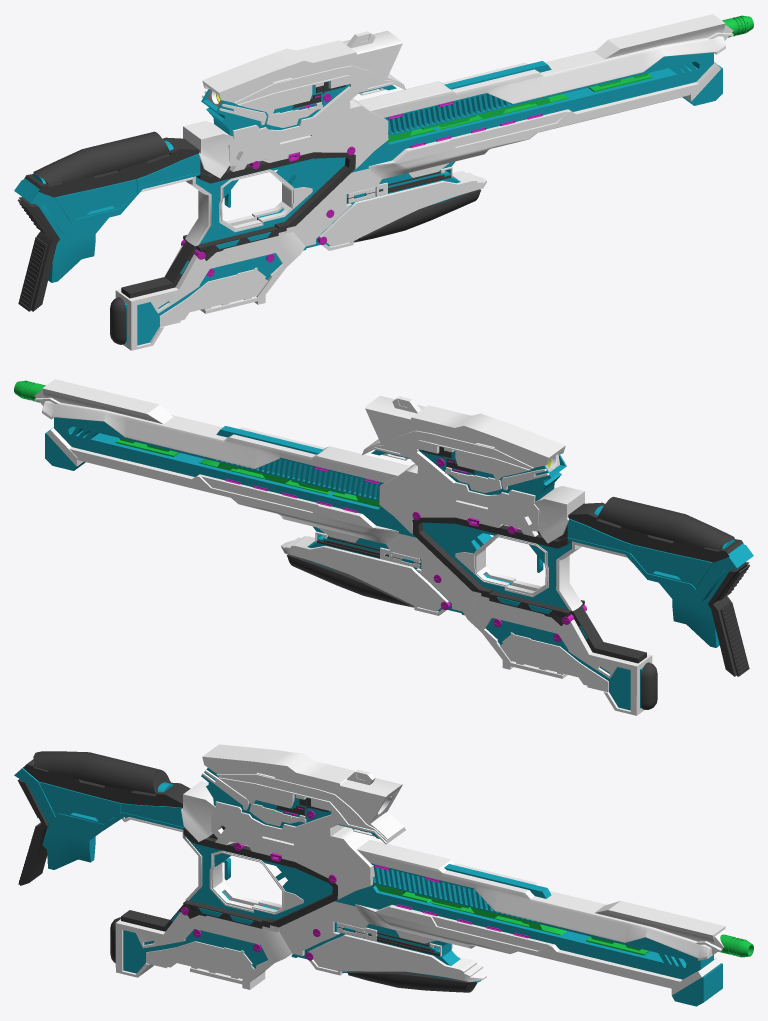
The model's file is Sci-Fi_Gun_sketchfab.fbx.
3 renders of one model, top to bottom at view 1: azimuth 30°, elevation 25°; view 2: azimuth 150°, elevation 25°; view 3: azimuth 330°, elevation 25°, orthographic.
Visible parts, largest first — view 1: Steel, Blue, Grey, Metal, Bolt; view 2: Steel, Blue, Grey, Metal, Bolt; view 3: Steel, Blue, Grey, Metal, Bolt.
Boxes of the visible parts, x1,y1,x2,y2 form: Steel: (115, 14, 733, 350); Blue: (14, 52, 722, 345); Grey: (17, 81, 481, 344); Metal: (387, 15, 753, 142); Bolt: (181, 93, 542, 276); Steel: (34, 379, 652, 715); Blue: (45, 417, 753, 710); Grey: (286, 446, 749, 709); Metal: (14, 380, 380, 507); Bolt: (225, 458, 586, 641); Steel: (115, 744, 729, 995); Blue: (14, 761, 722, 1006); Grey: (17, 751, 477, 992); Metal: (375, 884, 753, 957); Bolt: (181, 807, 528, 960).
Bounding box in the file's own units: 97 × 32.19 × 4.98.
